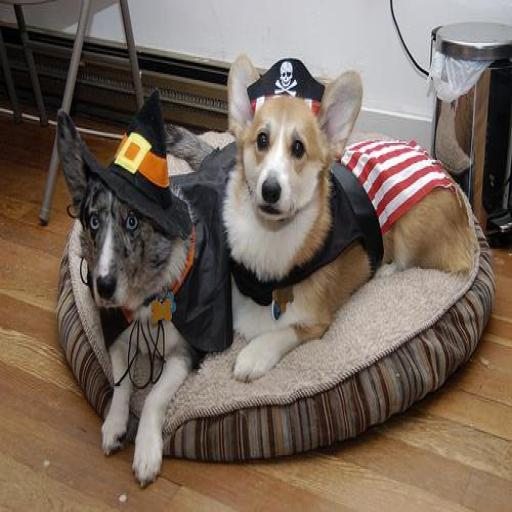dog_face: (58, 115, 180, 308), (224, 57, 367, 220)
